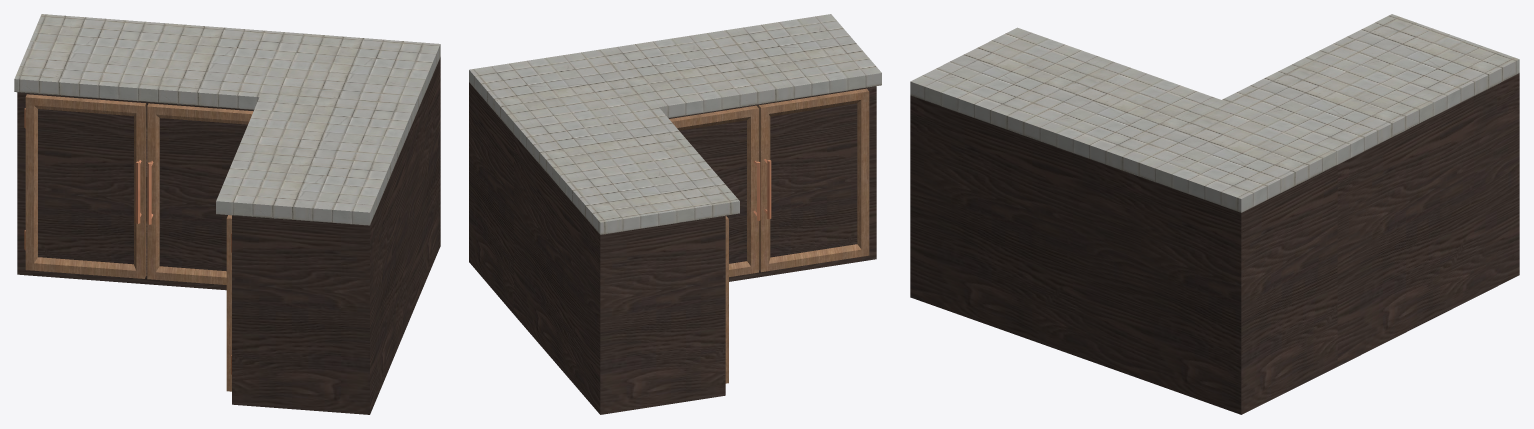
3 renders of one model, left to right at view 1: azimuth 30°, elevation 25°; view 2: azimuth 150°, elevation 25°; view 3: azimuth 270°, elevation 25°, orthographic. The views are drawn at different scales.
Visible parts, largest first — view 1: Cube048_Tiles001_0, Cube048_Wood_05001_0, Cube051_Wood_05001_0, Cube052_Wood_05001_0, Cube051_Wood_02001_0, Cube052_Wood_02001_0, Cube050_Wood_02001_0, Cube051_Metal_06001_0; view 2: Cube048_Wood_05001_0, Cube048_Tiles001_0, Cube050_Wood_05001_0, Cube050_Wood_02001_0, Cube049_Wood_05001_0, Cube049_Wood_02001_0, Cube051_Wood_02001_0; view 3: Cube048_Wood_05001_0, Cube048_Tiles001_0.
Part boxes in pixels (bbox=[...]): Cube048_Tiles001_0: bbox=[14, 14, 440, 225]; Cube048_Wood_05001_0: bbox=[17, 57, 440, 414]; Cube051_Wood_05001_0: bbox=[38, 109, 133, 264]; Cube052_Wood_05001_0: bbox=[159, 118, 247, 271]; Cube051_Wood_02001_0: bbox=[25, 94, 146, 278]; Cube052_Wood_02001_0: bbox=[147, 103, 253, 284]; Cube050_Wood_02001_0: bbox=[226, 215, 231, 391]; Cube051_Metal_06001_0: bbox=[24, 108, 141, 250]; Cube048_Wood_05001_0: bbox=[469, 82, 876, 414]; Cube048_Tiles001_0: bbox=[469, 14, 881, 234]; Cube050_Wood_05001_0: bbox=[770, 103, 857, 257]; Cube050_Wood_02001_0: bbox=[758, 88, 869, 272]; Cube049_Wood_05001_0: bbox=[679, 120, 746, 263]; Cube049_Wood_02001_0: bbox=[669, 105, 758, 276]; Cube051_Wood_02001_0: bbox=[725, 216, 728, 383]; Cube048_Wood_05001_0: bbox=[910, 73, 1519, 414]; Cube048_Tiles001_0: bbox=[910, 14, 1519, 212].
Size of the model in its own units: 1.8 by 0.9806 by 2.51.
Materials: 4 (4 with a texture image).
